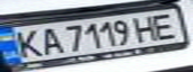1: (81, 20, 103, 48), (97, 18, 118, 47)
7: (60, 22, 84, 52)
9: (112, 17, 133, 46)
A: (33, 25, 63, 55)
E: (148, 11, 184, 39)
H: (130, 12, 163, 43)
K: (6, 26, 45, 59)
